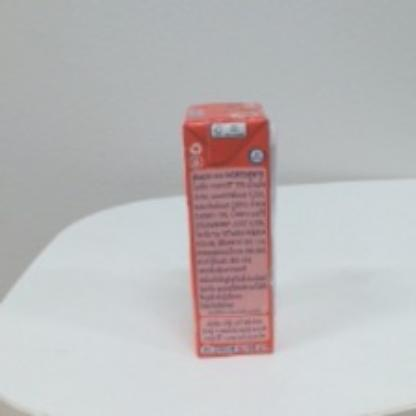Others: (171, 99, 297, 362)
